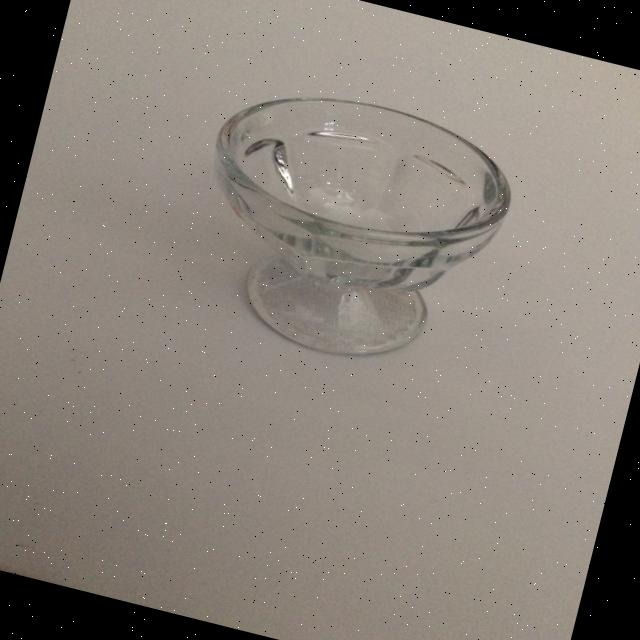glass: (171, 67, 526, 387)
